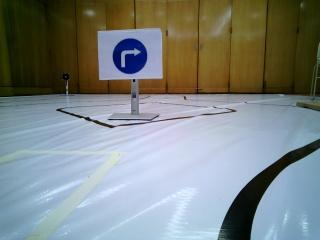right: (92, 29, 165, 74)
